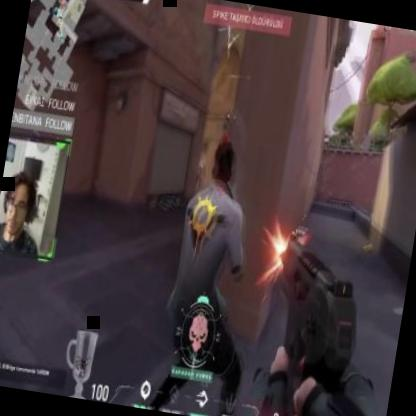enemy: (192, 156, 208, 192)
enemy_head: (198, 159, 204, 166)
